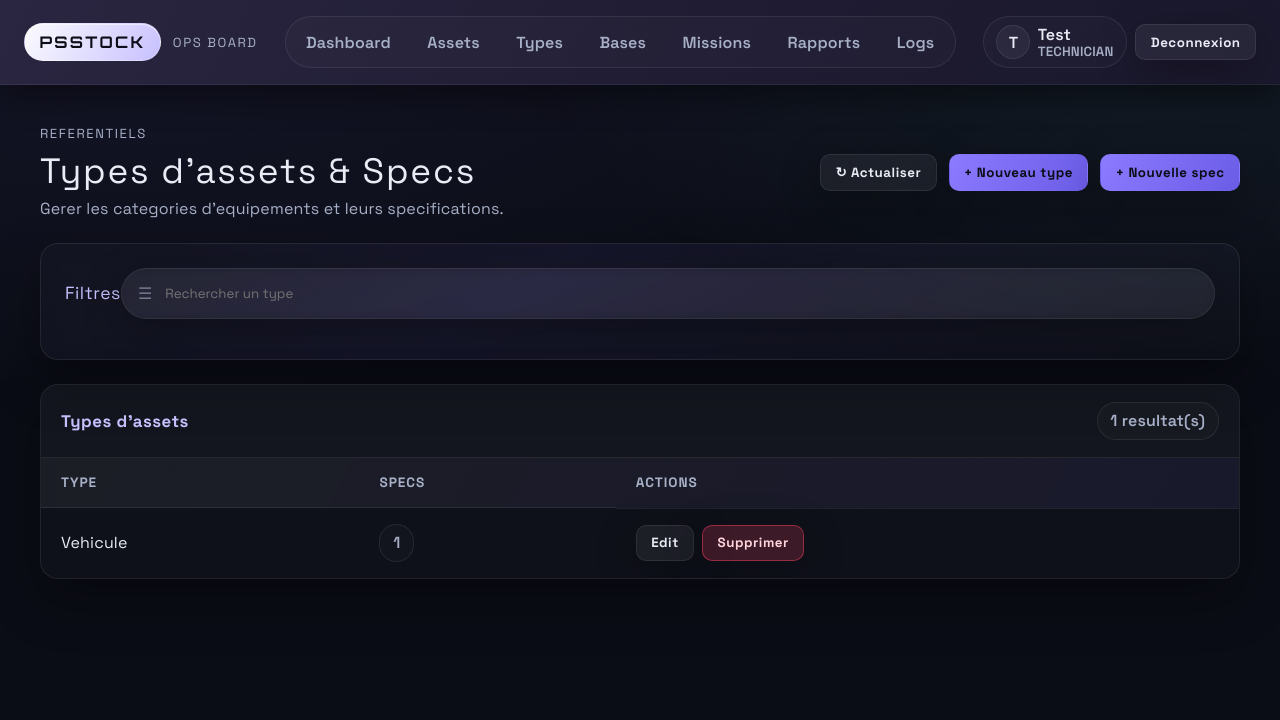
Test: AssetTypesPage – spec panel › opens spec panel when clicking a type row
This screenshot has width=1280, height=720.
Click the text "Vehicule" at [200, 543], box [41,508,360,578]
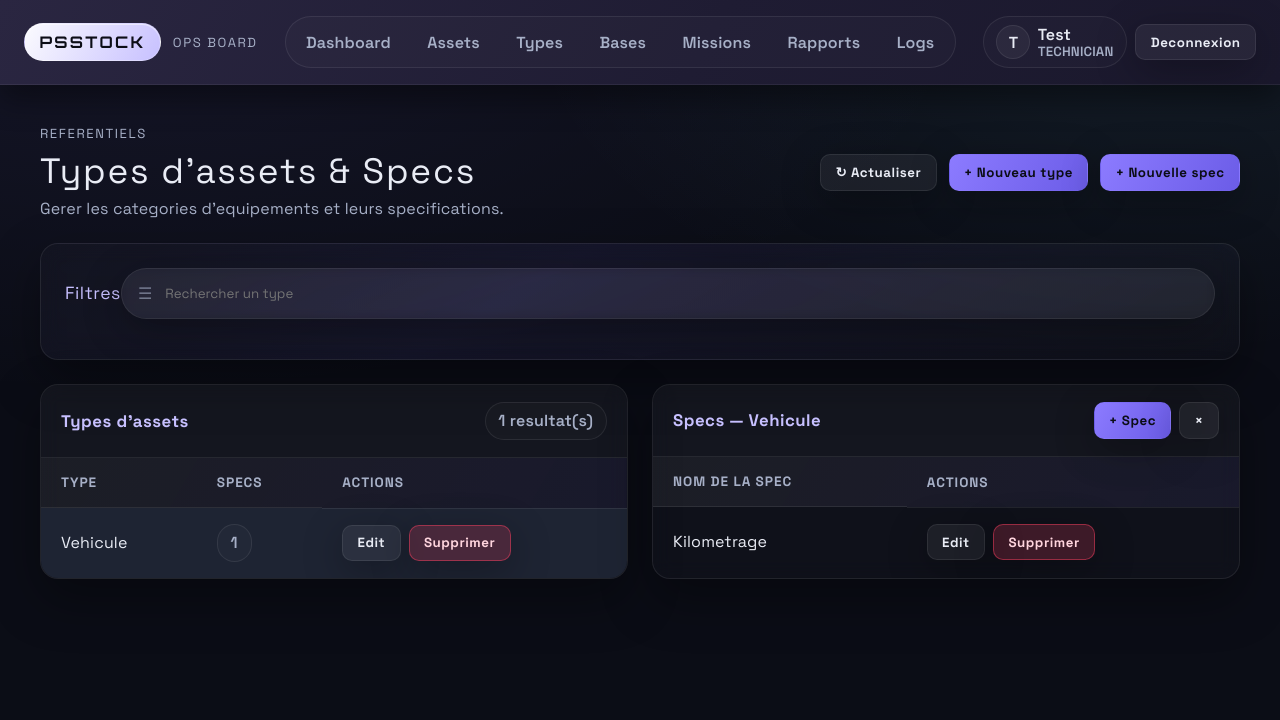
Result: the text "Kilometrage" is shown at [653,507,907,576]
